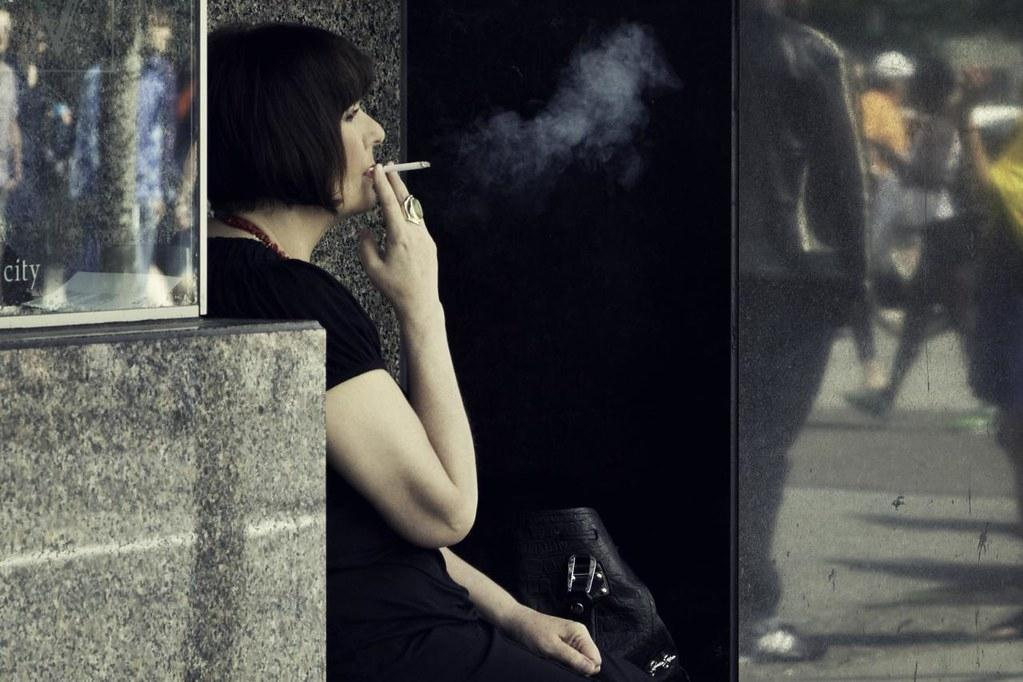cigarette: (370, 160, 432, 174)
